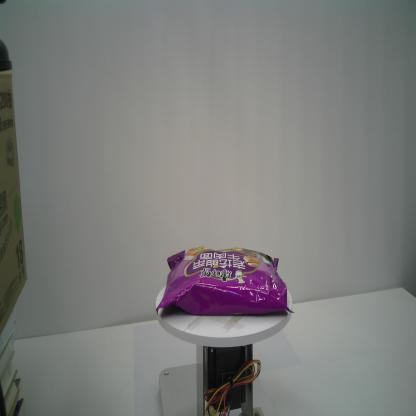Instant Noodles: (155, 245, 296, 317)
